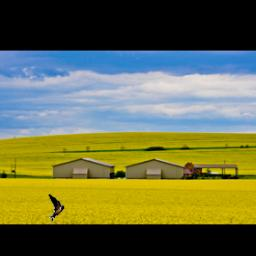Swallow: (48, 194, 64, 224)
